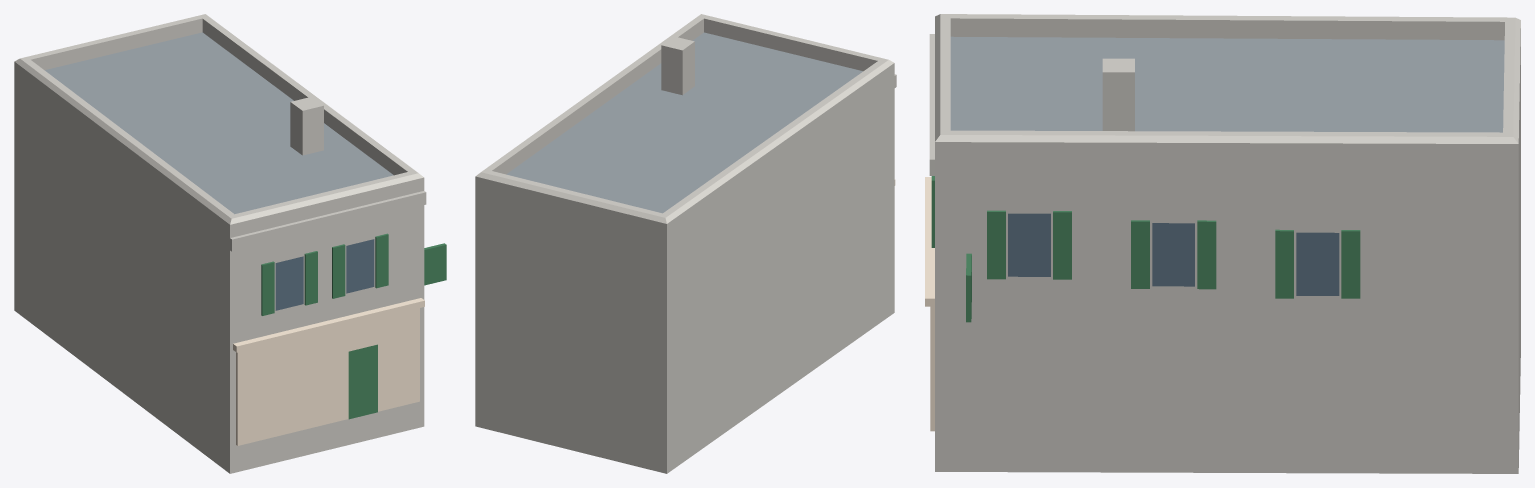
Rendered from milestone-club.glb.
3 views of the same model, side by side, from view 1: azimuth 30°, elevation 25°; view 2: azimuth 150°, elevation 25°; view 3: azimuth 270°, elevation 25° (orthographic). The views are drawn at different scales.
Parts seen in each view (by area): view 1: The Milestone Club; view 2: The Milestone Club; view 3: The Milestone Club.
Part boxes in pixels (x1,y1,x2,y2): The Milestone Club: (14,14,446,473); The Milestone Club: (475,14,896,473); The Milestone Club: (925,14,1520,473).
Bounding box in the file's own units: 7.75 × 9.2 × 13.23.
